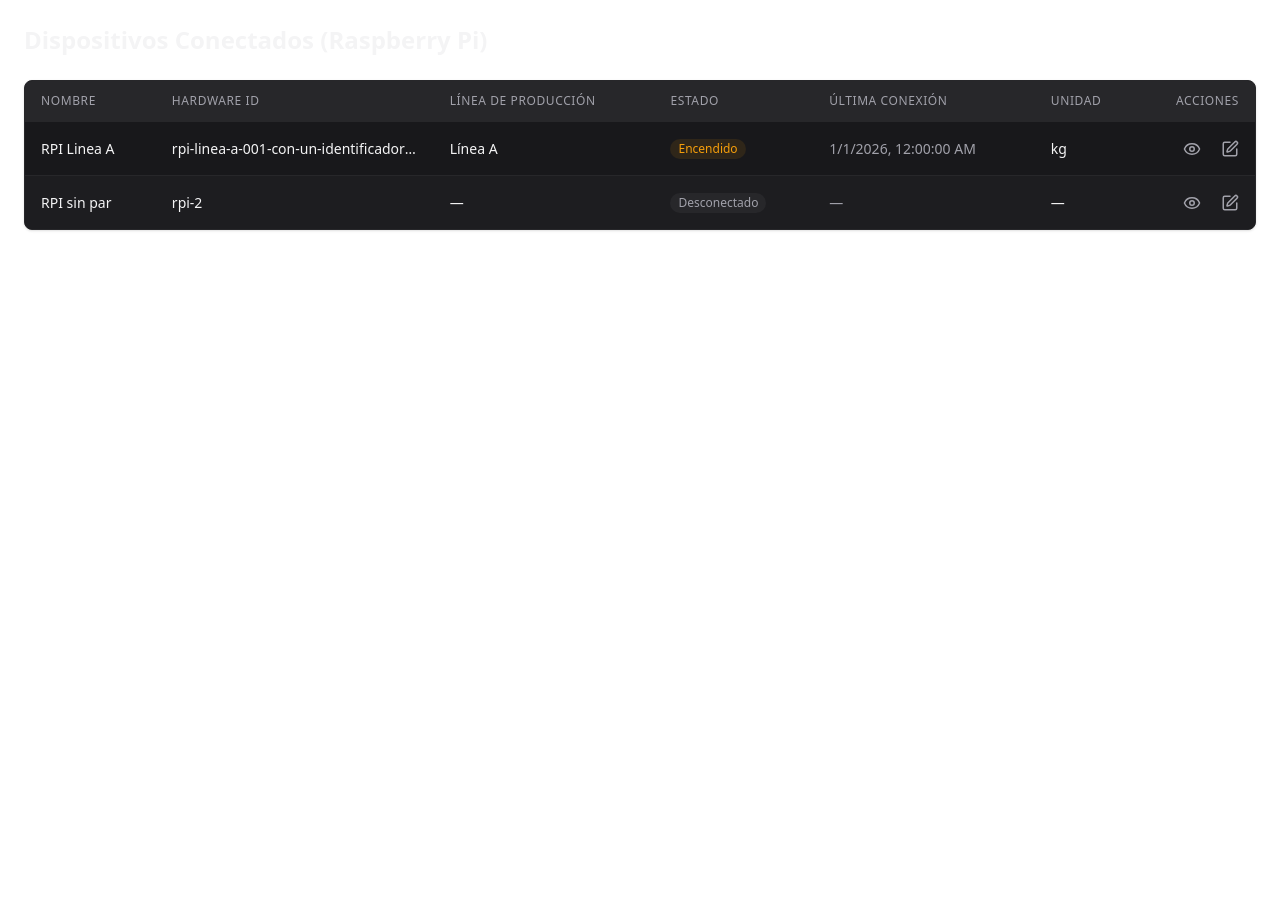
Test case: DispositivosConectadosPage detail drawer › shows a dash for the fields a device does not have
The width and height of the screenshot is (1280, 900).
Check: the text "RPI sin par" is shown, box 25,176 -> 156,229
Click the button named "Ver detalle" in the row of "RPI sin par" at point(1192, 202), box 1183,194 -> 1201,212
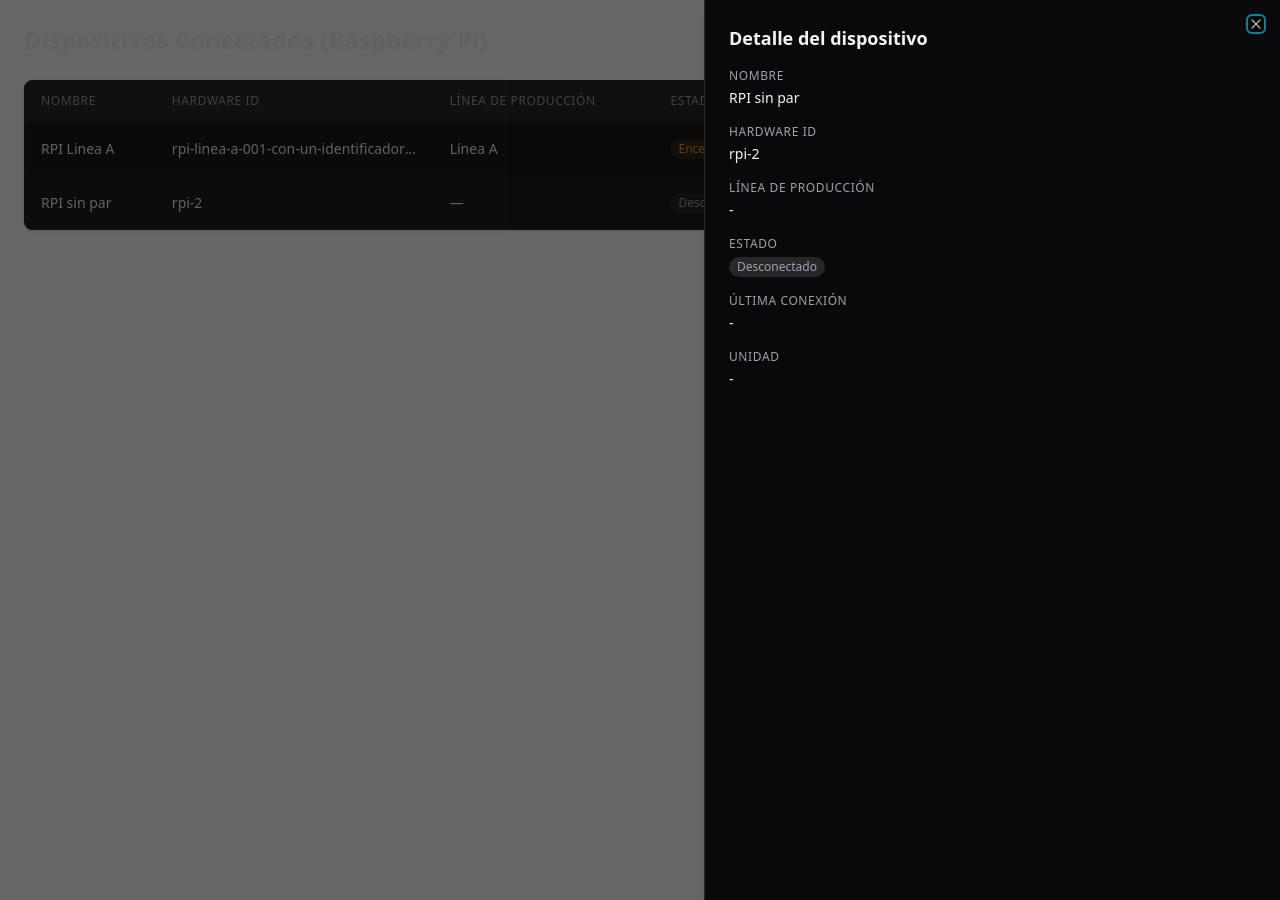
Check: the text "-" is shown 3 times, box 729,200 -> 734,219; 729,313 -> 734,332; 729,369 -> 734,388
